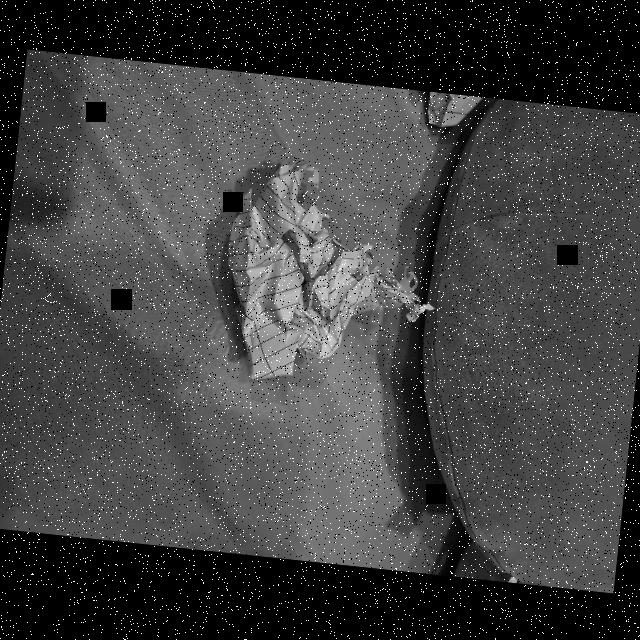scrap_paper: (211, 154, 436, 400)
